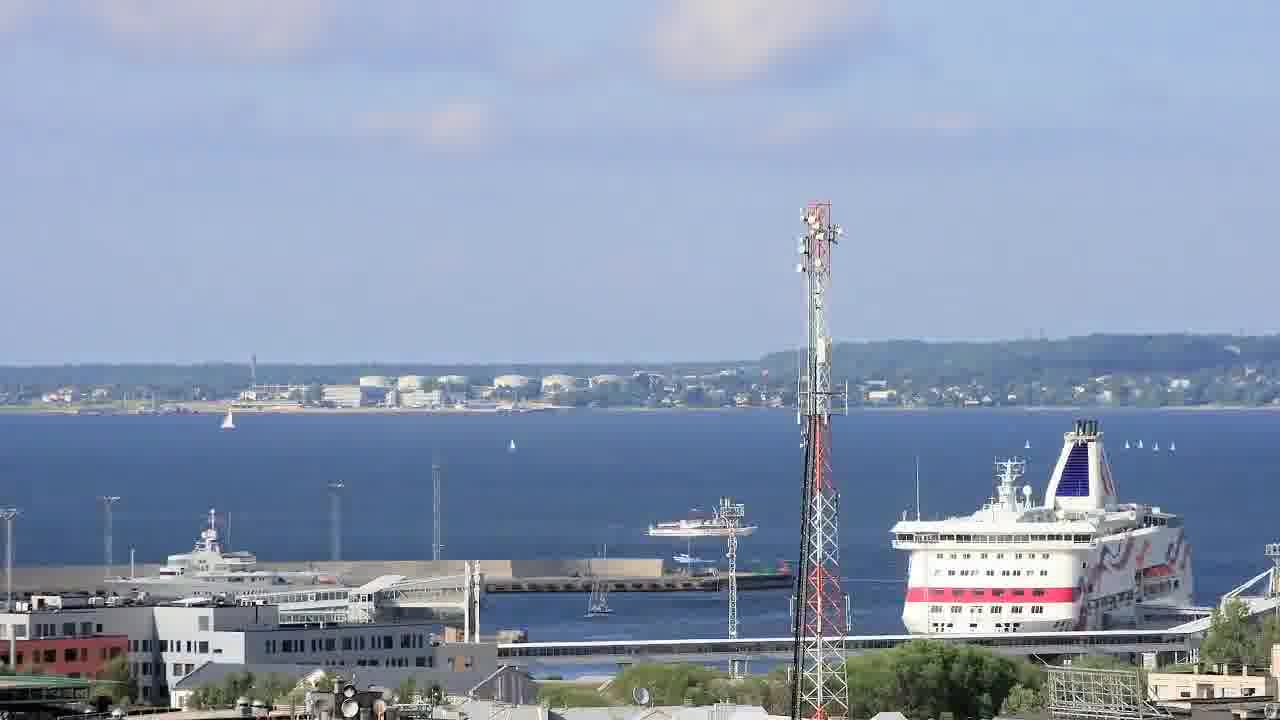type-0: (577, 579, 629, 623)
type-1: (642, 487, 779, 557)
type-2: (218, 395, 256, 446)
type-3: (868, 415, 1225, 638), (84, 537, 359, 610)
